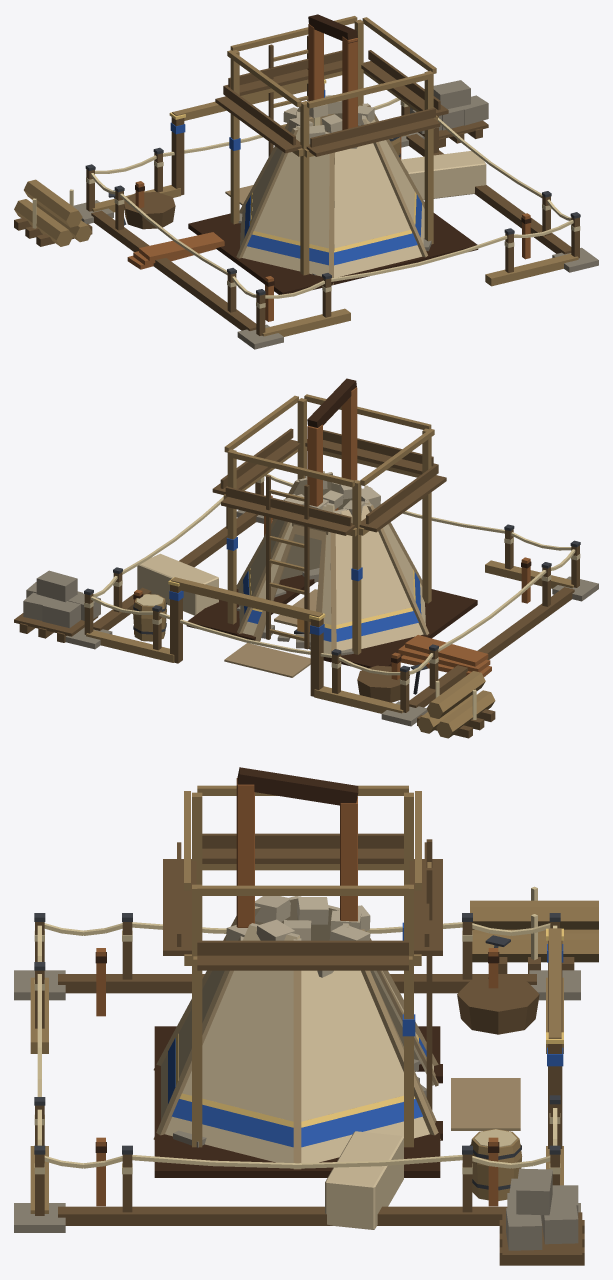
File: 初级帐篷_升级.glb
The picture shows the model from 3 angles, top to bottom: view 1: azimuth 30°, elevation 25°; view 2: azimuth 150°, elevation 25°; view 3: azimuth 270°, elevation 25°; orthographic projection. The views are drawn at different scales.
Parts seen in each view (by area): view 1: TN1U-主体, TN1U-team, TN1U-team_trim; view 2: TN1U-主体, TN1U-team, TN1U-team_trim; view 3: TN1U-主体, TN1U-team, TN1U-team_trim.
Boxes of the visible parts, box(x1,y1,x2,y2) form: TN1U-主体: box(14, 14, 598, 349); TN1U-team: box(170, 90, 421, 265); TN1U-team_trim: box(169, 79, 416, 252); TN1U-主体: box(14, 378, 598, 738); TN1U-team: box(169, 537, 421, 641); TN1U-team_trim: box(168, 568, 415, 628); TN1U-主体: box(14, 767, 598, 1265); TN1U-team: box(168, 922, 563, 1147); TN1U-team_trim: box(175, 928, 563, 1127).
Bounding box in the file's own units: 6.13 × 2.89 × 4.53.
4 materials, 2 textured.
